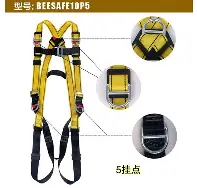safety belt: (20, 19, 93, 185)
